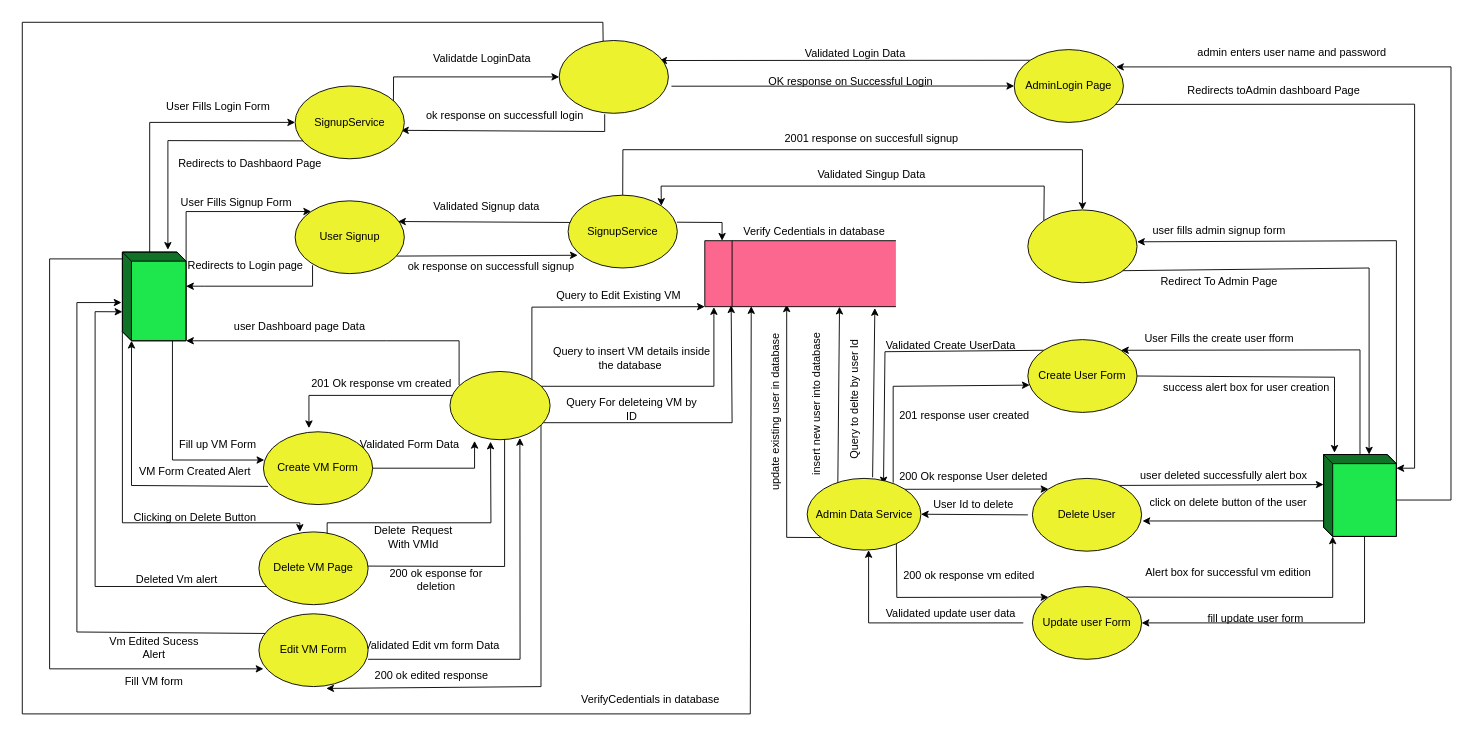
The diagram is 1474 pixels wide and 737 high, and some of its shapes have lost their labels. The centre of each missing label's shape, as x and y in pixels:
Admin: (x=1359, y=495)
AdminSignUp Page: (x=1082, y=246)
Database: (x=800, y=273)
LoginService: (x=613, y=76)
User: (x=153, y=296)
Userdata Service: (x=499, y=405)
